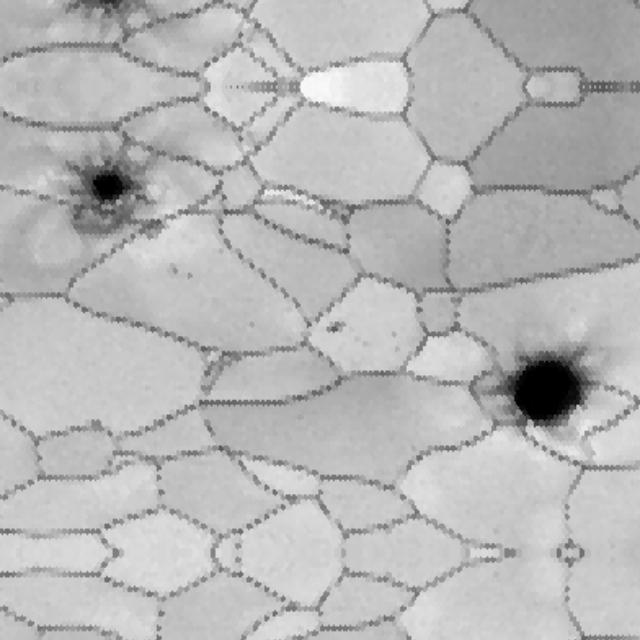good_void: (471, 332, 603, 434), (67, 131, 175, 252), (70, 0, 174, 41), (324, 318, 347, 336), (0, 287, 16, 311), (354, 334, 371, 348), (231, 553, 245, 569), (231, 537, 245, 552), (168, 261, 179, 275), (389, 327, 400, 338), (247, 317, 256, 329), (186, 269, 195, 279), (394, 343, 400, 353)
